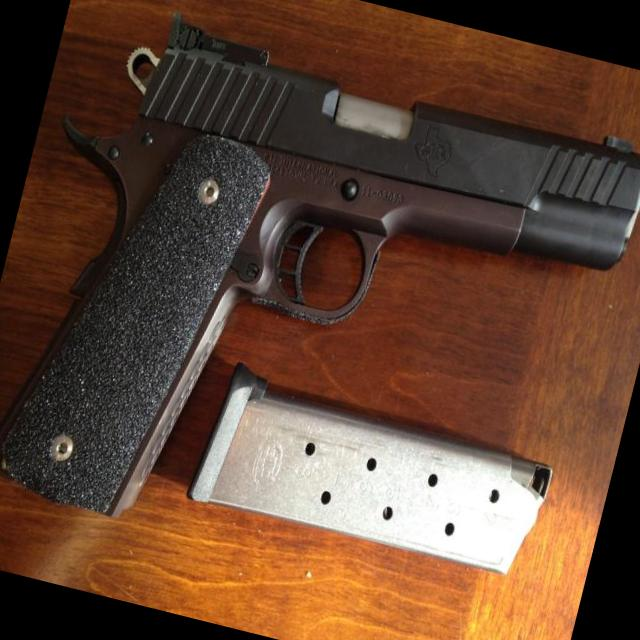Gun: (0, 14, 640, 515)
